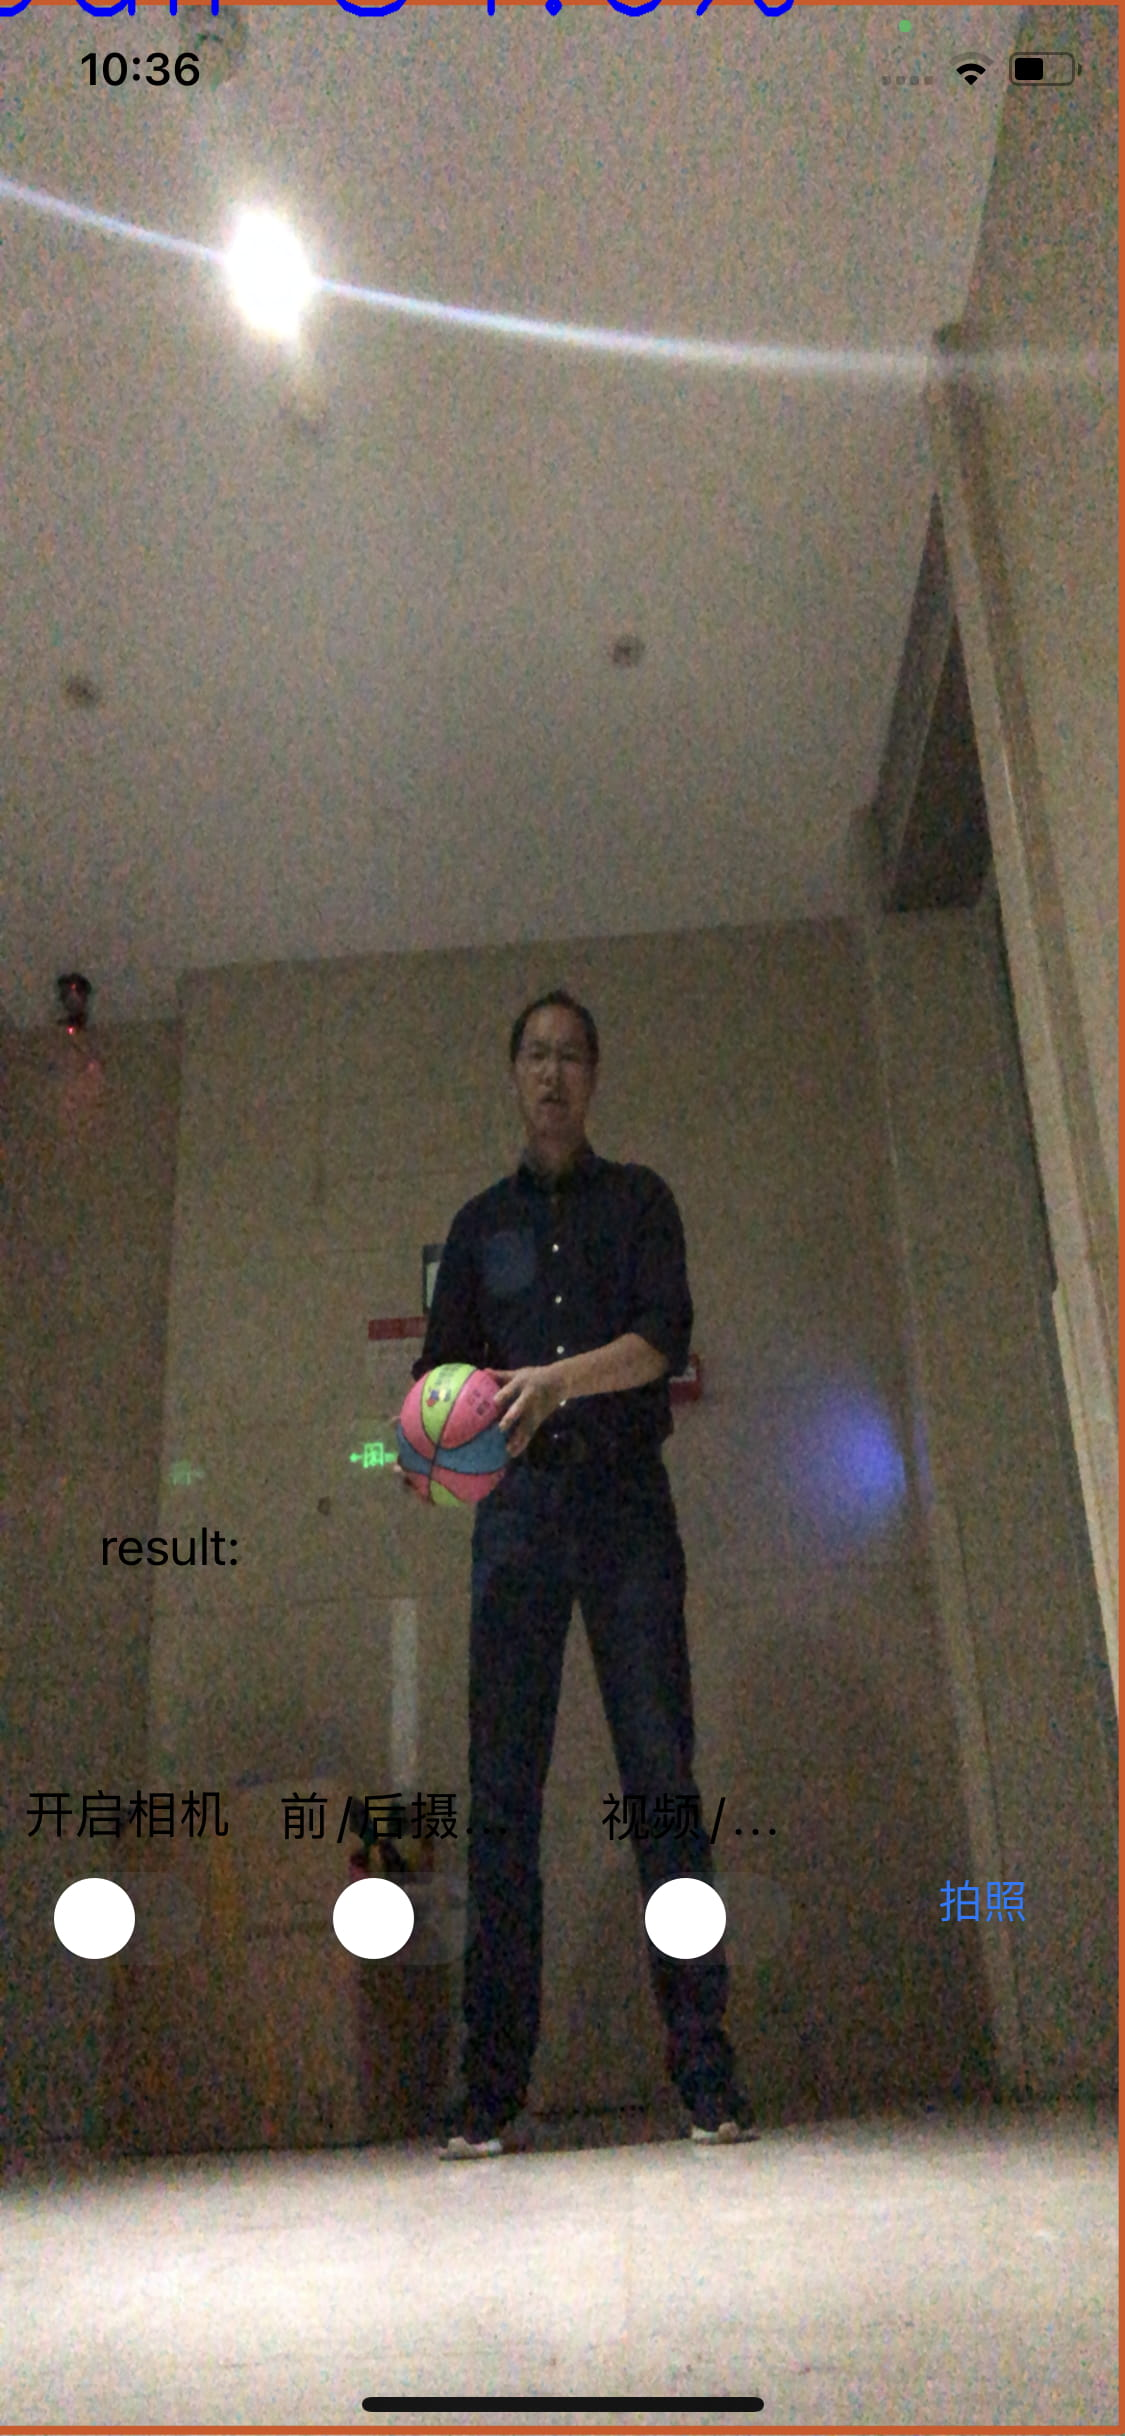ball: (396, 1359, 514, 1507)
